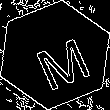M_NW: (21, 23, 89, 87)
